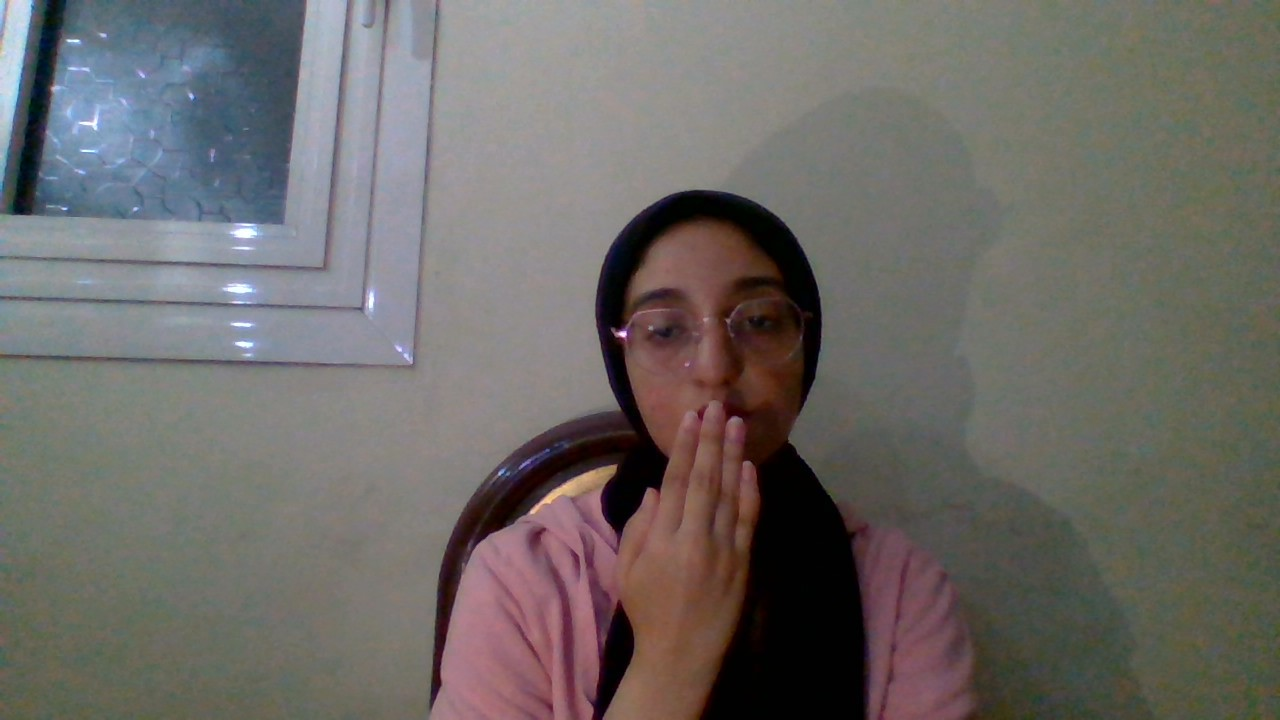thankyou: (540, 386, 836, 662)
